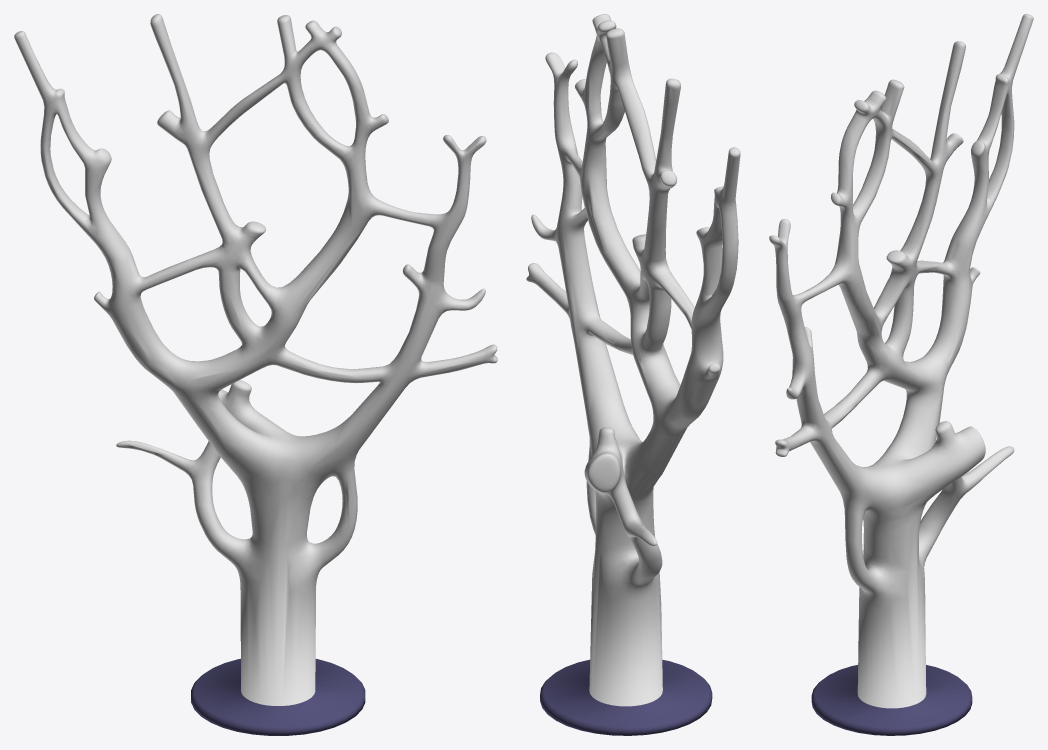
File: ShowPieceTree2.fbx
3 renders of one model, left to right at view 1: azimuth 30°, elevation 25°; view 2: azimuth 150°, elevation 25°; view 3: azimuth 270°, elevation 25°, orthographic. The views are drawn at different scales.
Visible parts, largest first — view 1: ShowPieceTree2; view 2: ShowPieceTree2; view 3: ShowPieceTree2.
Boxes of the visible parts, x1=… form: ShowPieceTree2: x1=14, y1=14, x2=497, y2=735; ShowPieceTree2: x1=526, y1=14, x2=740, y2=735; ShowPieceTree2: x1=769, y1=14, x2=1033, y2=735.
Size of the model in its own units: 0.5724 by 1.07 by 0.4088.
